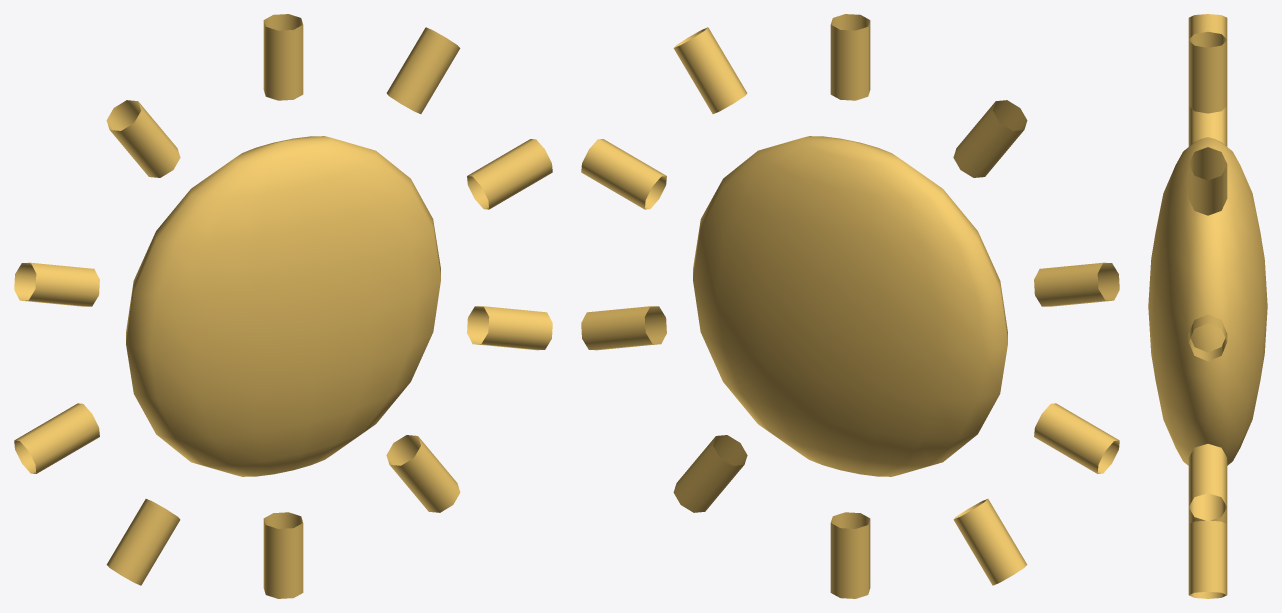
File: word-sun.glb
3 views of the same model, side by side, from view 1: azimuth 30°, elevation 25°; view 2: azimuth 150°, elevation 25°; view 3: azimuth 270°, elevation 25° (orthographic). The views are drawn at different scales.
Parts seen in each view (by area): view 1: sun, sun ray, sun ray.005, sun ray.002, sun ray.007, sun ray.001, sun ray.006, sun ray.004, sun ray.009, sun ray.003, sun ray.008; view 2: sun, sun ray, sun ray.005, sun ray.002, sun ray.007, sun ray.001, sun ray.006, sun ray.004, sun ray.009, sun ray.003, sun ray.008; view 3: sun, sun ray, sun ray.004, sun ray.003, sun ray.001, sun ray.008, sun ray.009, sun ray.002, sun ray.005.
Boxes of the visible parts, left/top/right/bottom form: sun: left=126, top=136, right=440, bottom=476; sun ray: left=263, top=14, right=303, bottom=100; sun ray.005: left=263, top=512, right=303, bottom=598; sun ray.002: left=467, top=139, right=552, bottom=209; sun ray.007: left=14, top=403, right=99, bottom=473; sun ray.001: left=386, top=27, right=460, bottom=113; sun ray.006: left=106, top=499, right=180, bottom=585; sun ray.004: left=386, top=435, right=460, bottom=512; sun ray.009: left=106, top=100, right=180, bottom=177; sun ray.003: left=467, top=306, right=552, bottom=350; sun ray.008: left=14, top=262, right=99, bottom=306; sun: left=693, top=136, right=1007, bottom=476; sun ray: left=830, top=14, right=870, bottom=100; sun ray.005: left=830, top=512, right=870, bottom=598; sun ray.002: left=581, top=139, right=666, bottom=209; sun ray.007: left=1034, top=403, right=1119, bottom=473; sun ray.001: left=673, top=27, right=747, bottom=113; sun ray.006: left=953, top=499, right=1027, bottom=585; sun ray.004: left=673, top=435, right=747, bottom=512; sun ray.009: left=953, top=100, right=1027, bottom=177; sun ray.003: left=581, top=306, right=666, bottom=350; sun ray.008: left=1034, top=262, right=1119, bottom=306; sun: left=1148, top=137, right=1267, bottom=465; sun ray: left=1188, top=31, right=1227, bottom=113; sun ray.004: left=1188, top=520, right=1227, bottom=598; sun ray.003: left=1188, top=444, right=1227, bottom=520; sun ray.001: left=1188, top=147, right=1227, bottom=215; sun ray.008: left=1188, top=106, right=1227, bottom=146; sun ray.009: left=1188, top=14, right=1227, bottom=39; sun ray.002: left=1188, top=314, right=1227, bottom=361; sun ray.005: left=1188, top=507, right=1227, bottom=523.
Bounding box in the file's own units: 1.34 × 1.38 × 0.28.
